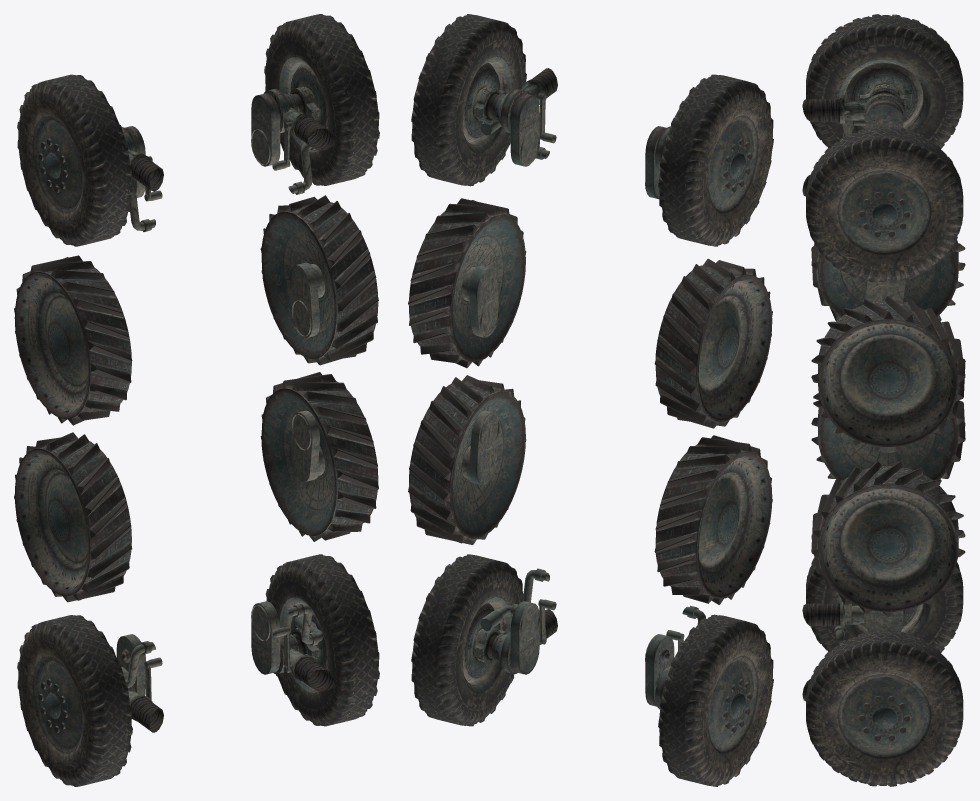
File: Chassis.glb
The picture shows the model from 3 angles, left to right: view 1: azimuth 30°, elevation 25°; view 2: azimuth 150°, elevation 25°; view 3: azimuth 270°, elevation 25°; orthographic projection. The views are drawn at different scales.
Parts seen in each view (by area): view 1: set_1_group_0, set_0_group_0, set_0_group_1, set_1_group_1; view 2: set_1_group_0, set_0_group_0, set_0_group_1, set_1_group_1; view 3: set_1_group_0, set_1_group_1, set_0_group_0, set_0_group_1.
Boxes of the visible parts, x1=… form: set_1_group_0: x1=251, y1=62, x2=378, y2=691; set_0_group_0: x1=14, y1=121, x2=163, y2=746; set_0_group_1: x1=17, y1=74, x2=132, y2=786; set_1_group_1: x1=264, y1=14, x2=379, y2=726; set_1_group_0: x1=408, y1=63, x2=557, y2=682; set_0_group_0: x1=645, y1=121, x2=772, y2=746; set_0_group_1: x1=658, y1=74, x2=773, y2=786; set_1_group_1: x1=411, y1=14, x2=526, y2=726; set_1_group_0: x1=802, y1=174, x2=965, y2=752; set_1_group_1: x1=806, y1=126, x2=963, y2=786; set_0_group_0: x1=802, y1=63, x2=965, y2=632; set_0_group_1: x1=806, y1=14, x2=963, y2=652.
Size of the model in its own units: 2.43 by 5.49 by 1.25.
4 materials, 4 textured.
